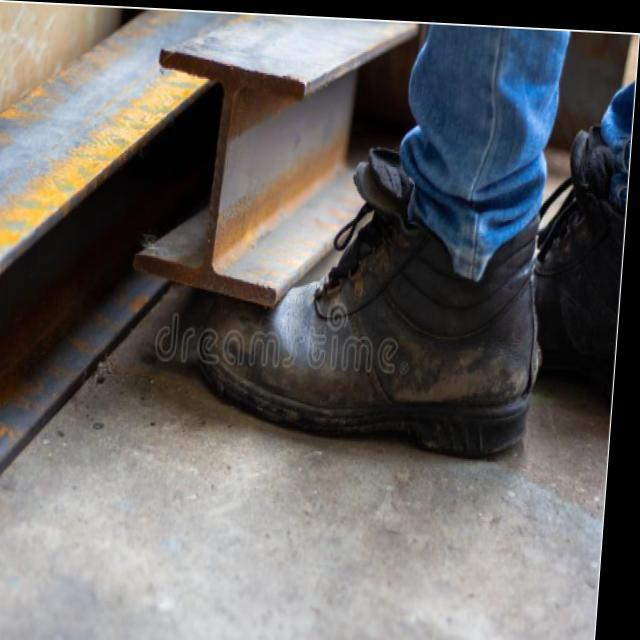boots: (183, 93, 634, 474)
